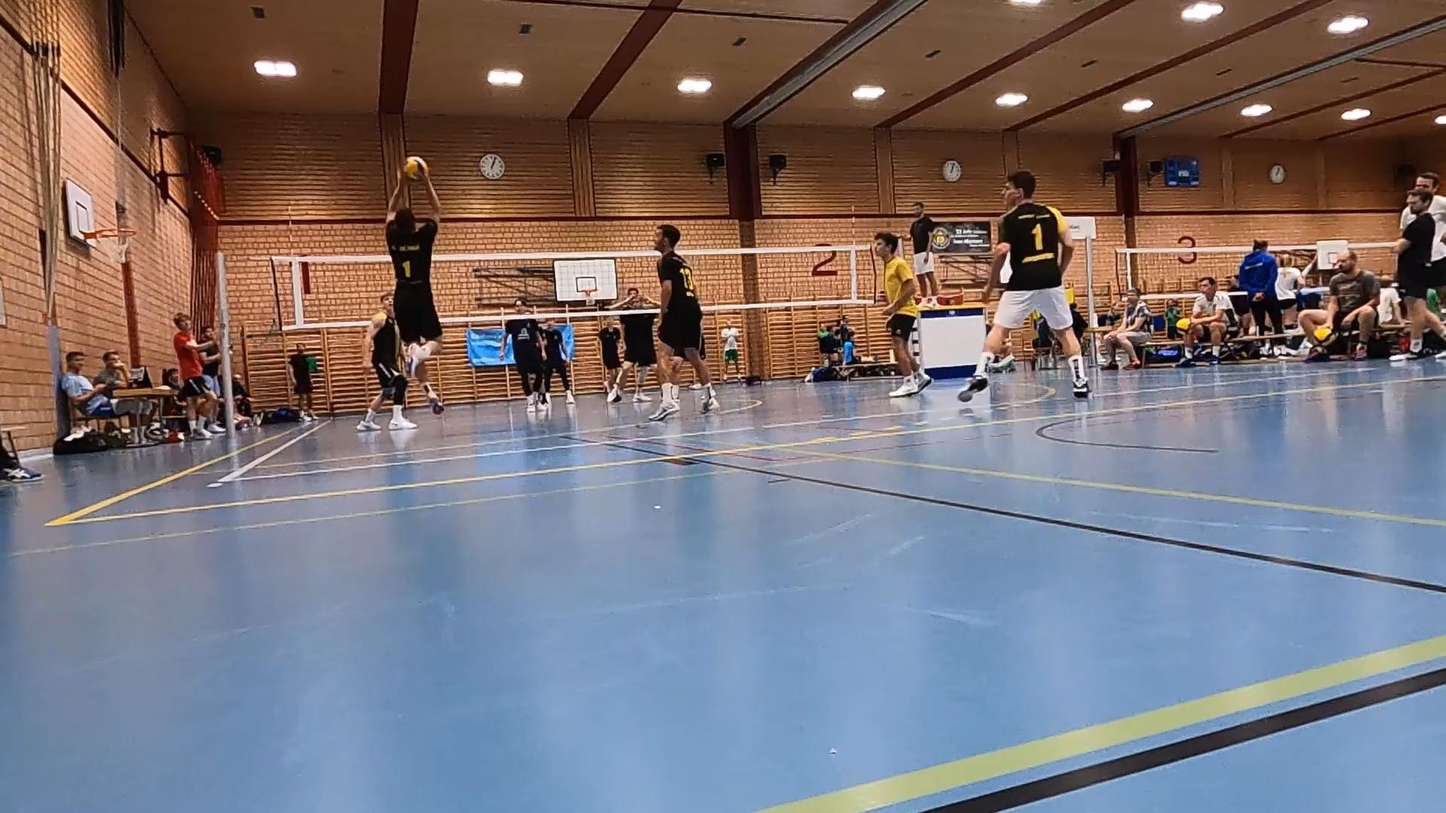ricezione: (381, 156, 448, 375)
